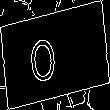O_N: (40, 26, 70, 84)
